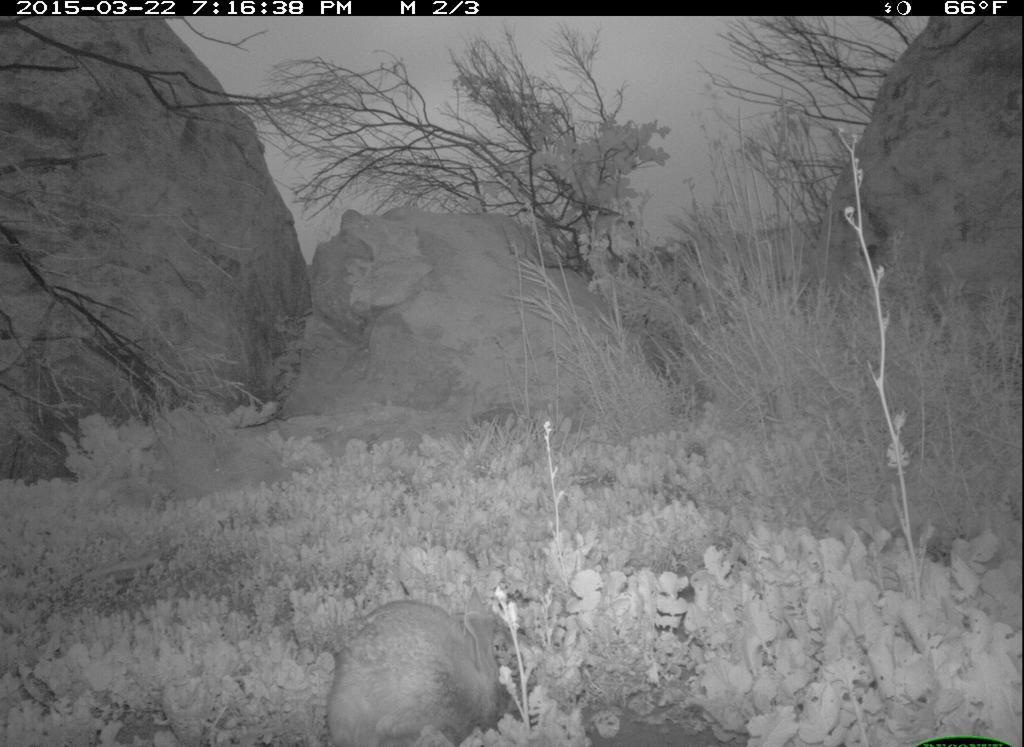rabbit: (300, 588, 525, 743)
